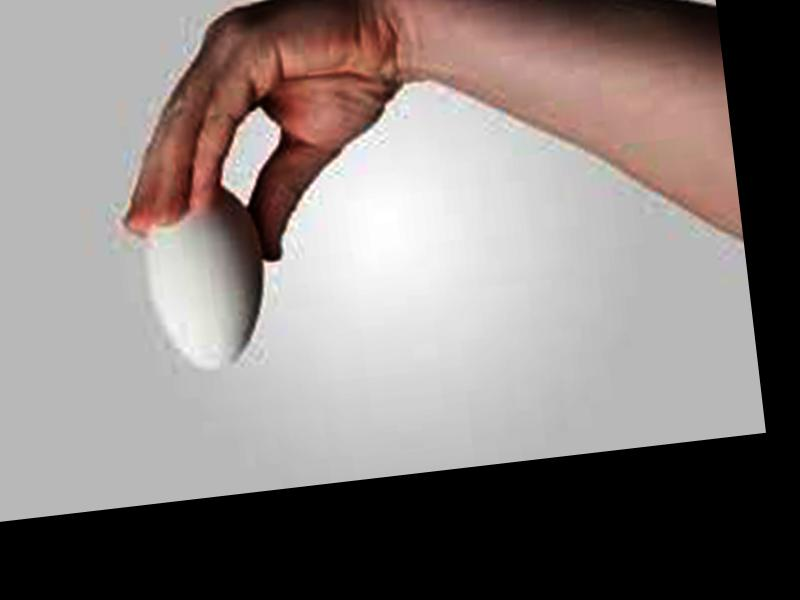Eggs: (133, 180, 275, 379)
